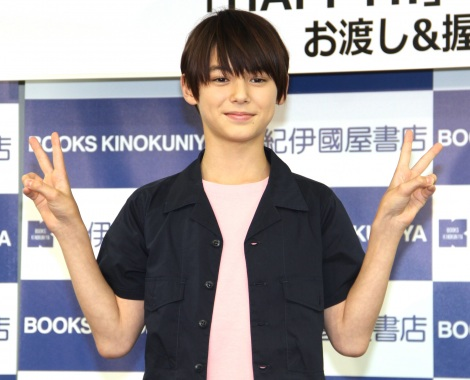face: (179, 42, 289, 143)
hand: (375, 128, 443, 231), (21, 132, 86, 232)
